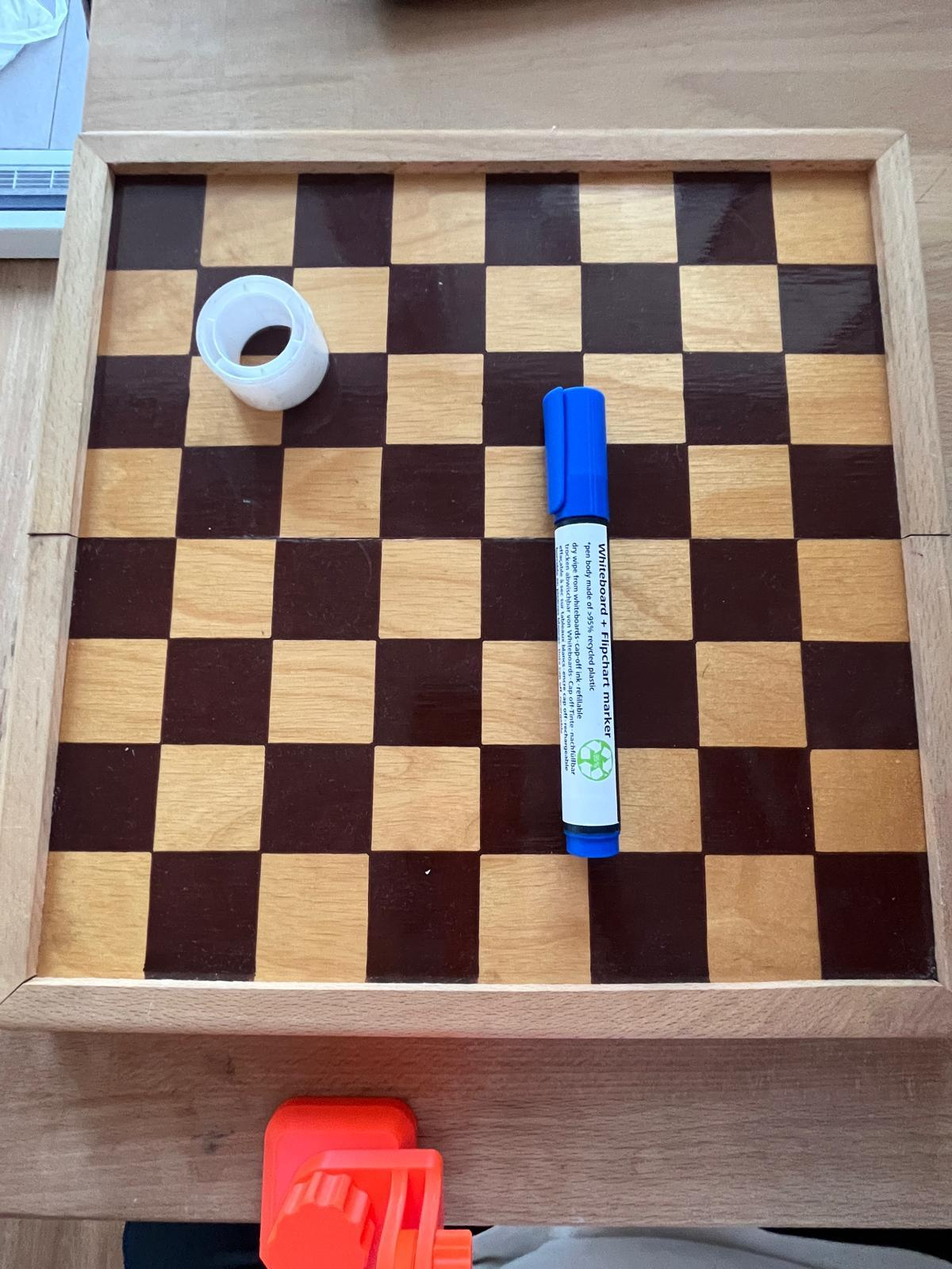marker: (547, 387, 627, 863)
tape: (194, 274, 324, 412)
